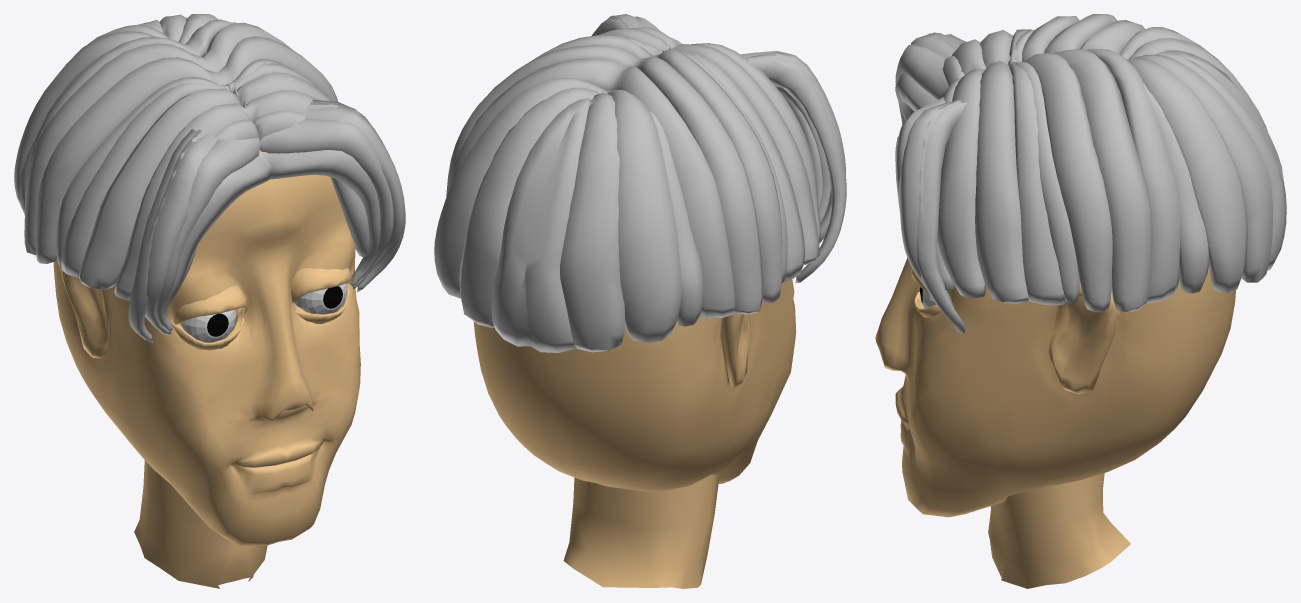
Rendered from head1.fbx.
The picture shows the model from 3 angles, left to right: view 1: azimuth 30°, elevation 25°; view 2: azimuth 150°, elevation 25°; view 3: azimuth 270°, elevation 25°; orthographic projection. The views are drawn at different scales.
Visible parts, largest first — view 1: Face.006, Front_parts13_01, Front_parts2, Front_parts3_1, Body.012, Front_parts3_2, Eye.010, Eye1.014, Eye1.015, Eye2.014; view 2: Front_parts3_2, Face.006, Front_parts3_1, Body.012, Front_parts2, Front_parts13_01; view 3: Face.006, Front_parts3_1, Front_parts3_2, Front_parts2, Front_parts13_01, Body.012.
Boxes of the visible parts, box(x1,y1,x2,y2) form: Face.006: box(53, 150, 360, 545); Front_parts13_01: box(128, 99, 405, 342); Front_parts2: box(61, 62, 369, 300); Front_parts3_1: box(24, 19, 338, 265); Body.012: box(134, 460, 267, 588); Front_parts3_2: box(14, 14, 218, 215); Eye.010: box(180, 283, 347, 342); Eye1.014: box(173, 285, 246, 324); Eye1.015: box(291, 268, 352, 302); Eye2.014: box(171, 308, 244, 350); Front_parts3_2: box(434, 77, 703, 352); Face.006: box(473, 280, 796, 491); Front_parts3_1: box(446, 35, 787, 318); Body.012: box(563, 474, 719, 588); Front_parts2: box(598, 27, 820, 281); Front_parts13_01: box(592, 14, 846, 283); Face.006: box(875, 258, 1235, 517); Front_parts3_1: box(1010, 14, 1180, 312); Front_parts3_2: box(1120, 27, 1286, 293); Front_parts2: box(937, 29, 1067, 305); Front_parts13_01: box(895, 32, 966, 333); Body.012: box(988, 473, 1130, 588).
Size of the model in its own units: 36.14 by 58.6 by 40.7.
